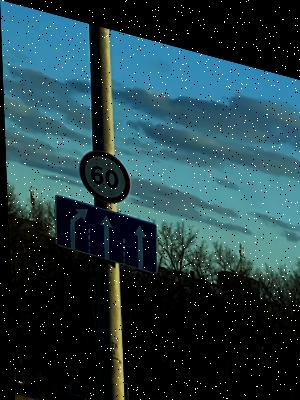Speed Limit -60-: (76, 138, 130, 202)
